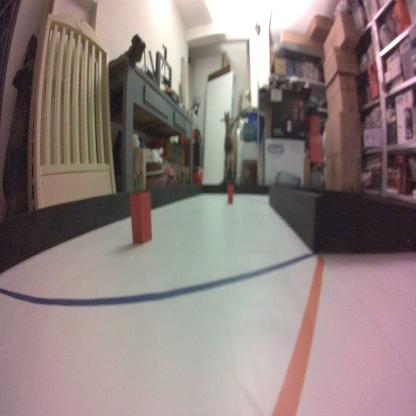red: (130, 192, 152, 244), (227, 184, 234, 202)
